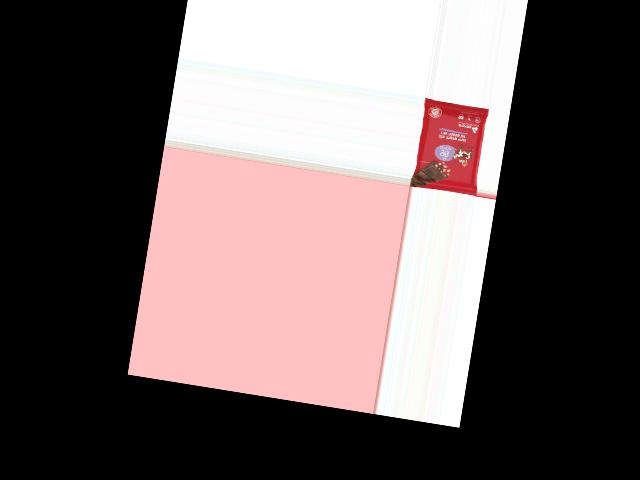chocolate: (412, 97, 490, 195)
